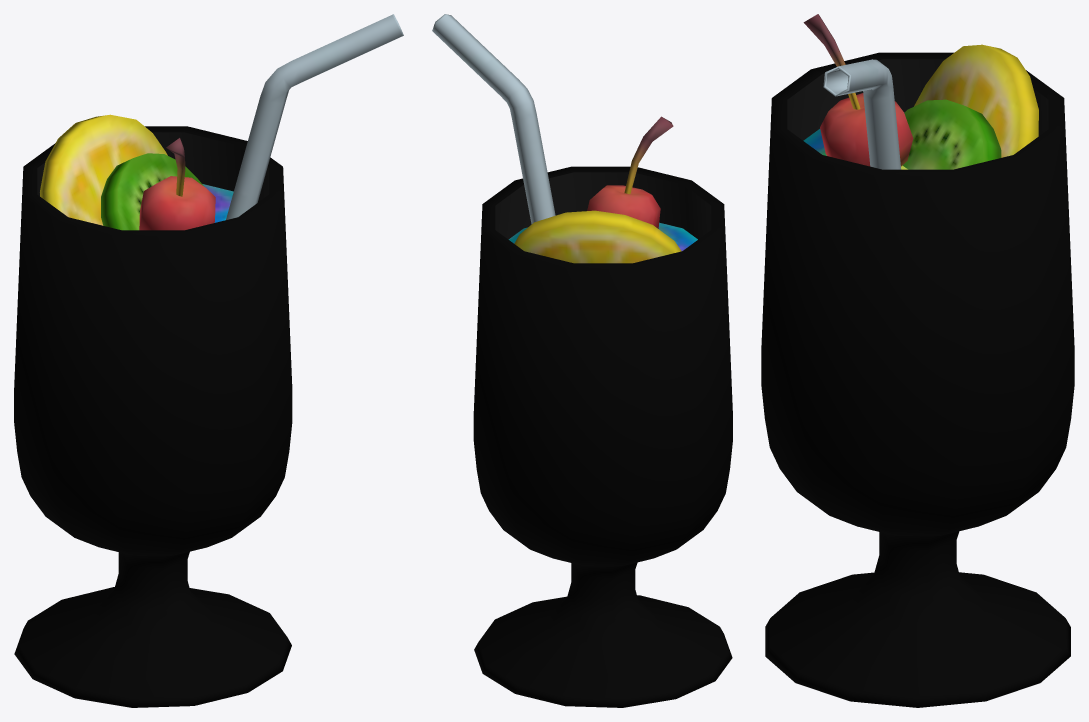
3 views of the same model, side by side, from view 1: azimuth 30°, elevation 25°; view 2: azimuth 150°, elevation 25°; view 3: azimuth 270°, elevation 25° (orthographic). The views are drawn at different scales.
Size of the model in its own units: 3.46 by 6.04 by 2.49.
Materials: 3 (3 with a texture image).
